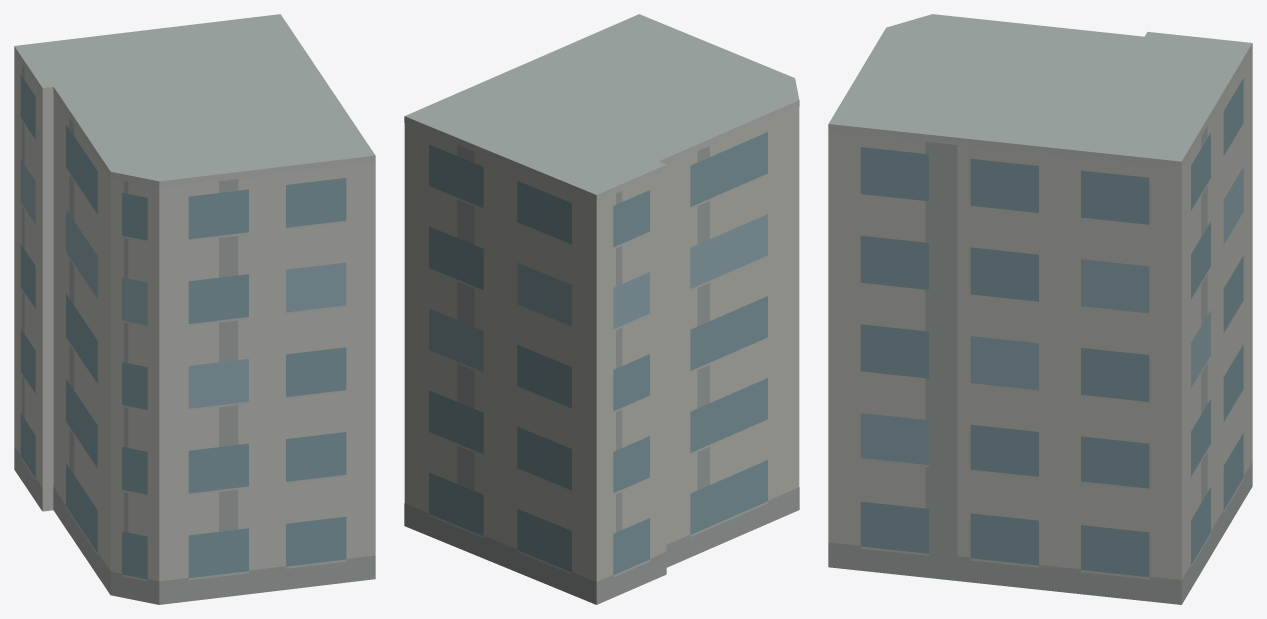
Rendered from survey-upis-33003851.glb.
The picture shows the model from 3 angles, left to right: view 1: azimuth 30°, elevation 25°; view 2: azimuth 150°, elevation 25°; view 3: azimuth 270°, elevation 25°; orthographic projection. The views are drawn at different scales.
Visible parts, largest first — view 1: survey-upis-33003851.tmp; view 2: survey-upis-33003851.tmp; view 3: survey-upis-33003851.tmp.
Boxes of the visible parts, x1,y1,x2,y2 form: survey-upis-33003851.tmp: (14,14,375,604); survey-upis-33003851.tmp: (404,14,799,604); survey-upis-33003851.tmp: (828,14,1252,604).
Bounding box in the file's own units: 10.44 × 14.6 × 12.67.
